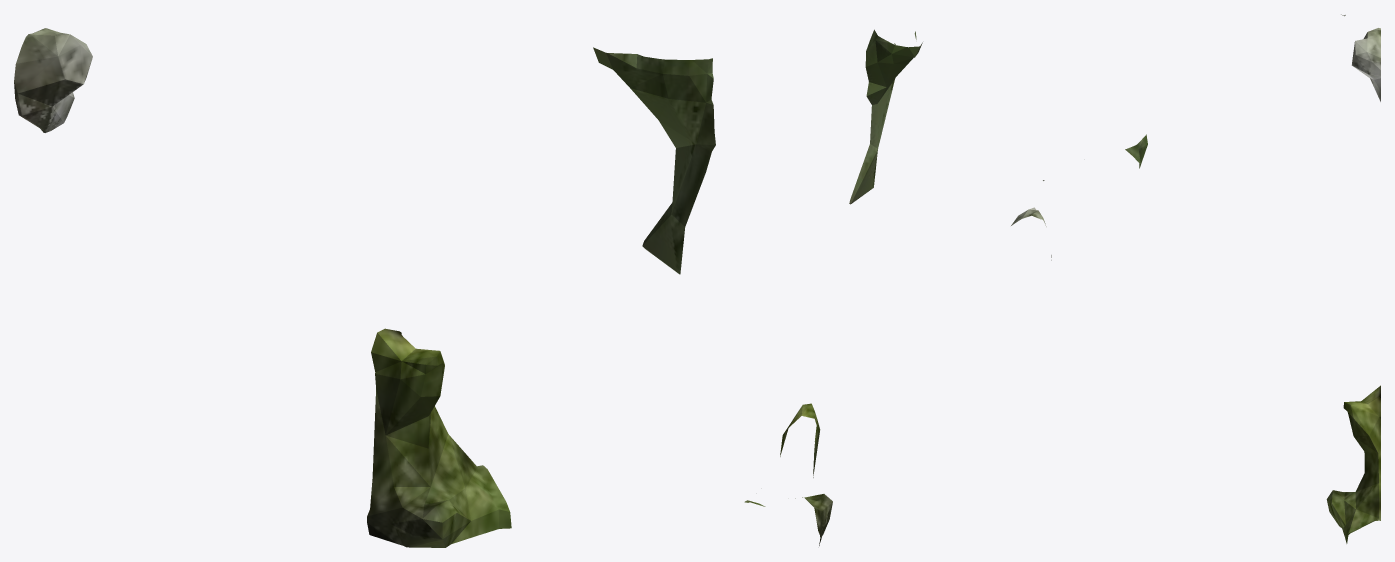
3 renders of one model, left to right at view 1: azimuth 30°, elevation 25°; view 2: azimuth 150°, elevation 25°; view 3: azimuth 270°, elevation 25°, orthographic. The views are drawn at different scales.
Bounding box in the file's own units: 2.34 × 2.95 × 2.02.
Materials: 1 (1 with a texture image).
